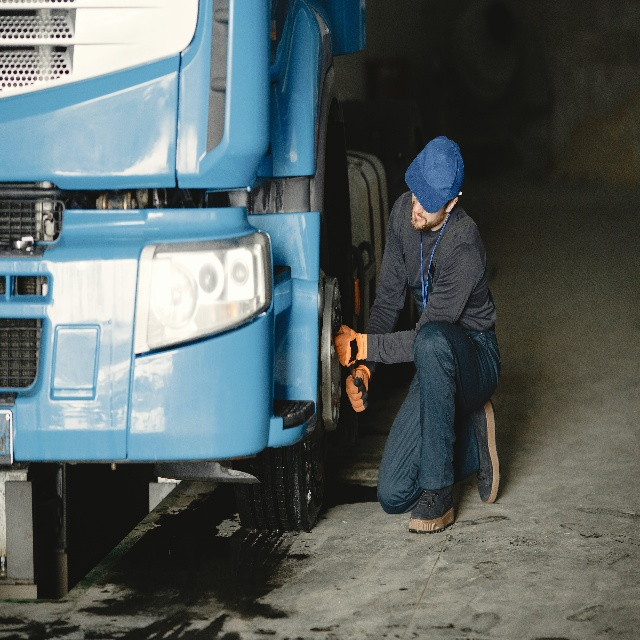Guantes: (334, 323, 364, 367), (346, 369, 370, 410)
